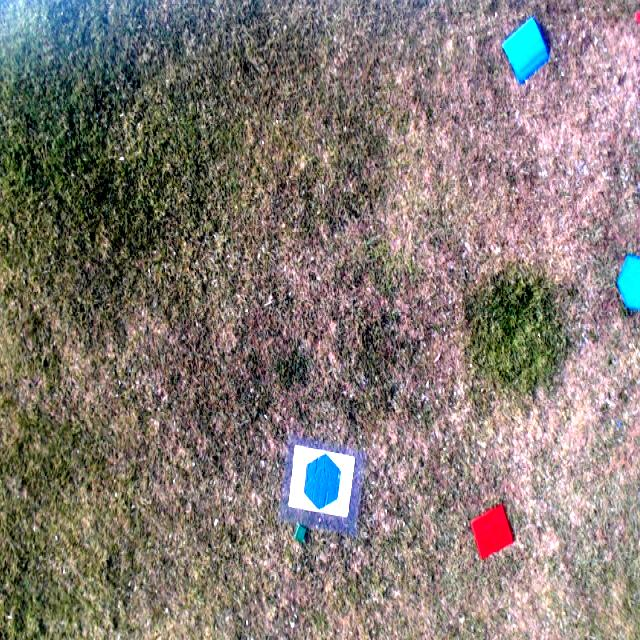blue_hexagon: (304, 451, 342, 513)
blue_square: (500, 18, 551, 86)
red_square: (471, 503, 516, 560)
